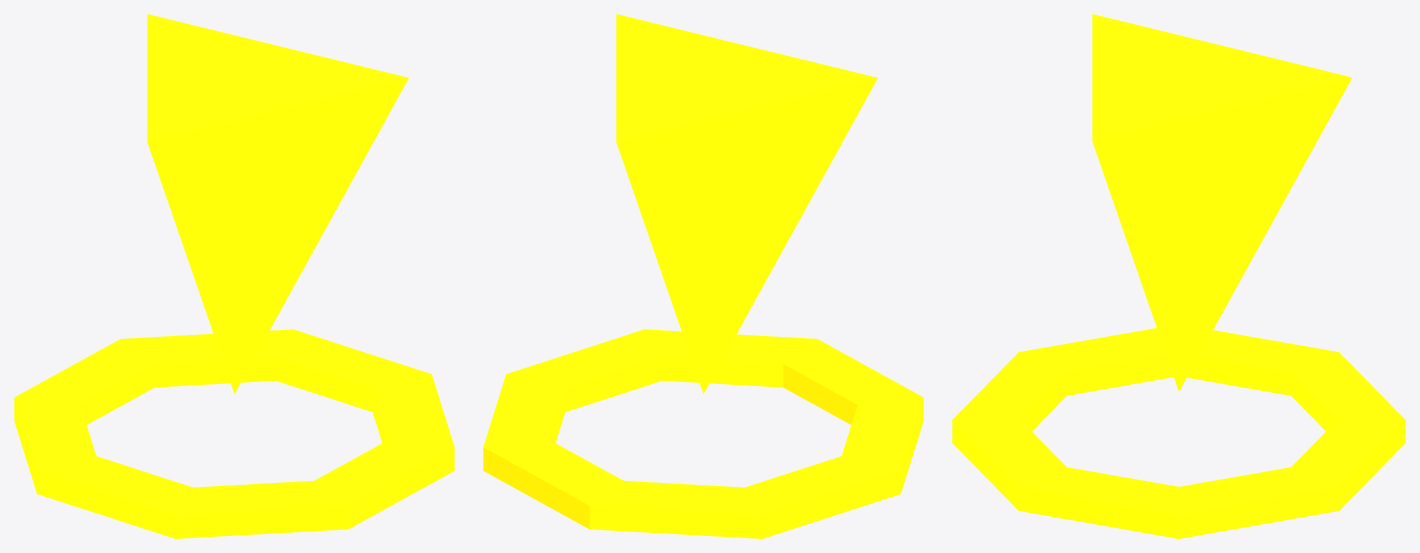
File: Waypoint.fbx
The picture shows the model from 3 angles, left to right: view 1: azimuth 30°, elevation 25°; view 2: azimuth 150°, elevation 25°; view 3: azimuth 270°, elevation 25°; orthographic projection.
Parts seen in each view (by area): view 1: WayPoint; view 2: WayPoint; view 3: WayPoint.
Part boxes in pixels (x1,y1,x2,y2): WayPoint: [14, 14, 454, 538]; WayPoint: [483, 14, 923, 538]; WayPoint: [952, 14, 1405, 538].
Bounding box in the file's own units: 200 × 178 × 200.
